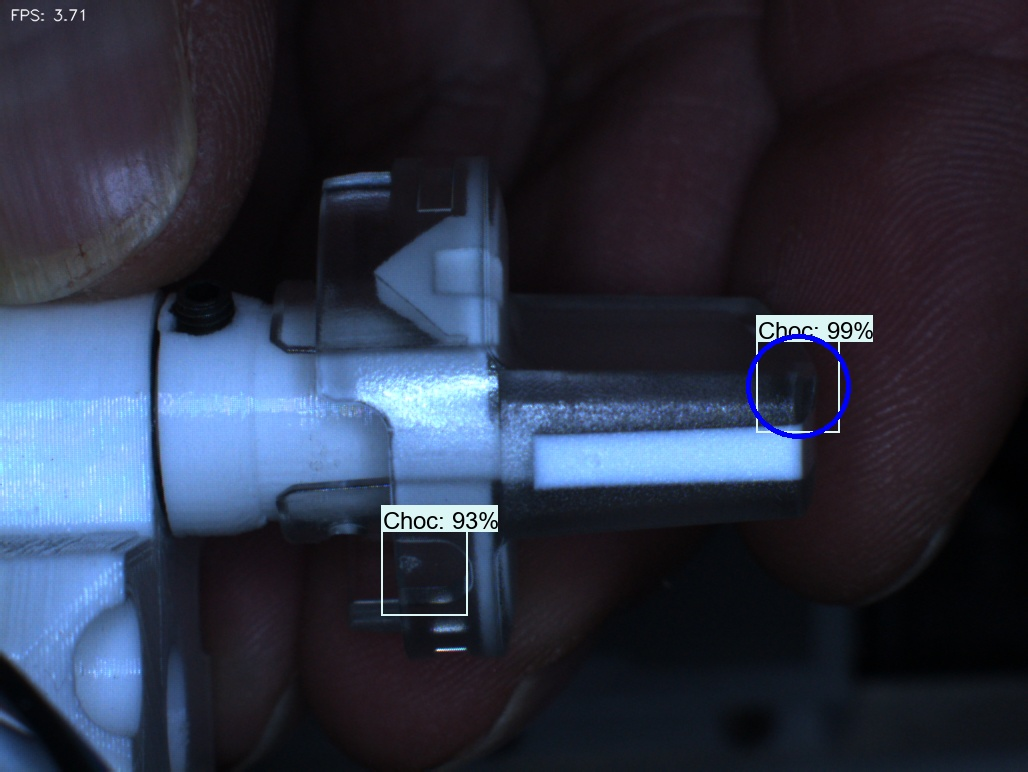DentOk: (345, 250, 415, 324)
